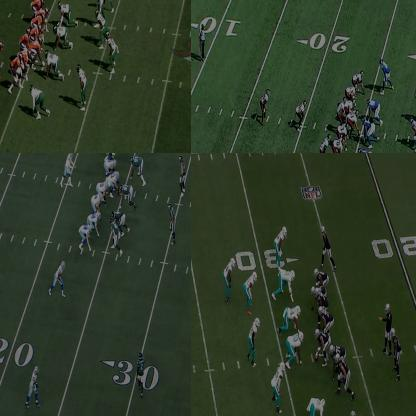CENTER: (313, 326, 330, 360), (347, 110, 361, 137), (31, 38, 41, 67), (110, 172, 122, 196)
DB: (136, 352, 146, 399), (224, 259, 233, 304), (275, 227, 286, 259), (94, 0, 106, 15), (103, 0, 114, 12)
LB: (105, 33, 117, 73), (273, 362, 283, 405), (96, 10, 107, 48), (244, 272, 256, 304), (110, 218, 121, 252), (252, 316, 262, 352), (78, 66, 86, 109), (167, 204, 174, 244), (178, 153, 184, 191), (0, 42, 4, 88), (410, 117, 415, 152)
QB: (382, 302, 390, 354), (65, 153, 75, 191), (20, 28, 31, 50), (337, 95, 346, 119)
SKILL: (27, 366, 40, 406), (51, 260, 65, 296), (322, 225, 334, 265), (391, 329, 400, 380), (259, 89, 270, 124), (81, 222, 92, 250), (312, 268, 329, 285), (90, 212, 102, 236), (294, 101, 305, 126), (42, 6, 50, 35), (352, 67, 363, 83), (30, 0, 44, 12), (321, 136, 331, 152)
